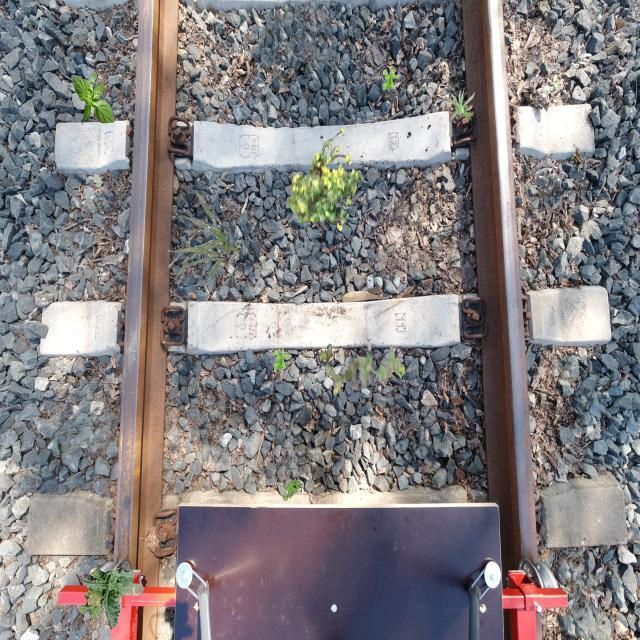Plant: (286, 127, 361, 232), (168, 192, 241, 286), (319, 343, 406, 394), (82, 568, 146, 630), (73, 72, 114, 126), (443, 87, 476, 122), (79, 589, 103, 620), (282, 477, 302, 502), (274, 348, 292, 372), (383, 68, 400, 92)
